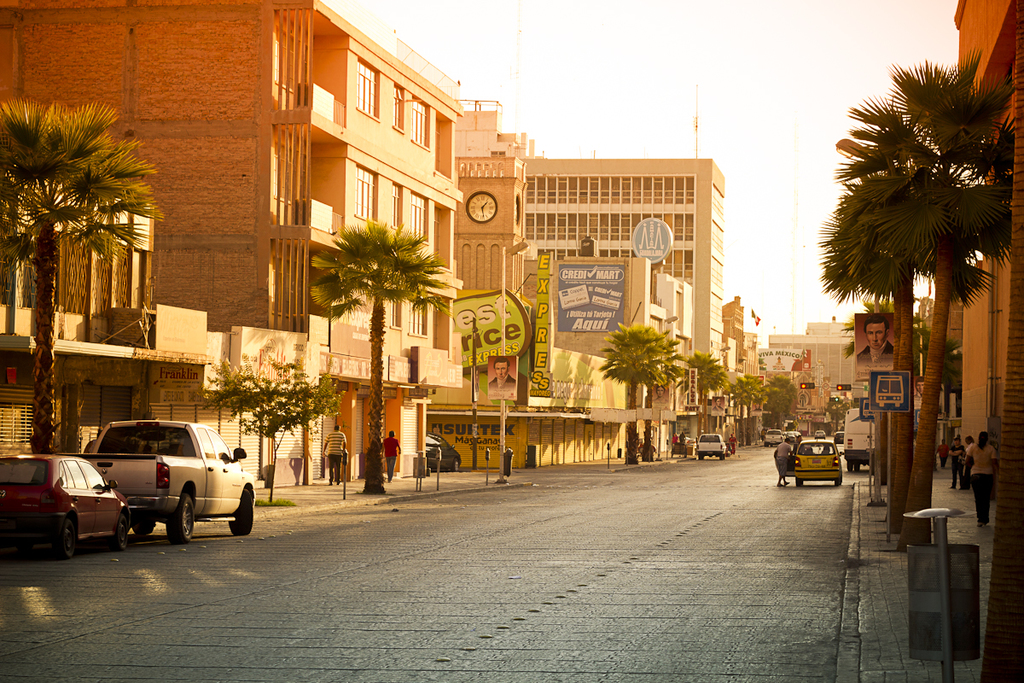Car: (0, 449, 136, 560), (790, 432, 842, 484), (419, 428, 462, 471), (696, 431, 727, 456)
